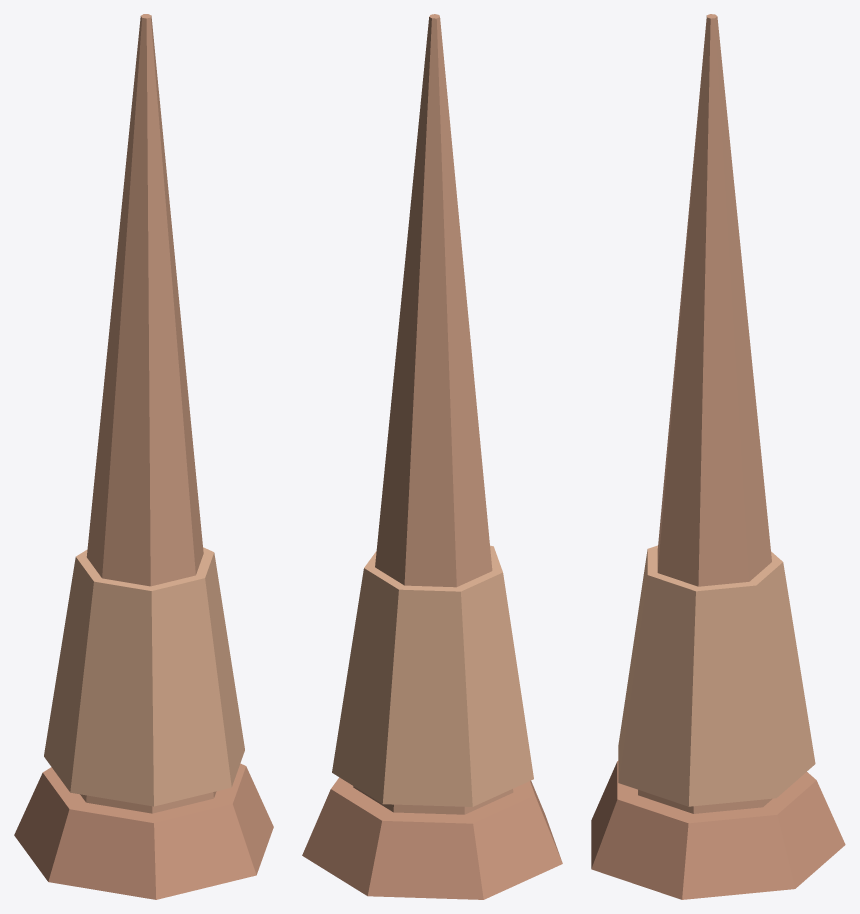
Rendered from needle_spire_far-DSU_15iX.glb.
3 renders of one model, left to right at view 1: azimuth 30°, elevation 25°; view 2: azimuth 150°, elevation 25°; view 3: azimuth 270°, elevation 25°, orthographic.
Visible parts, largest first — view 1: needle_spire_far; view 2: needle_spire_far; view 3: needle_spire_far.
Part boxes in pixels (left/top/right/bottom): needle_spire_far: left=14, top=14, right=273, bottom=899; needle_spire_far: left=302, top=14, right=562, bottom=899; needle_spire_far: left=591, top=14, right=845, bottom=899.
Size of the model in its own units: 11.7 by 41 by 11.41.
